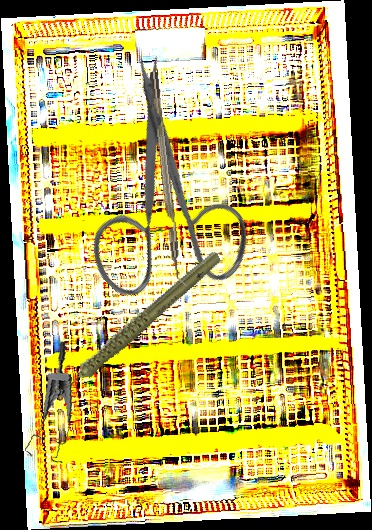Chopper: (149, 70, 192, 288)
Handpiece: (29, 249, 242, 397)
Iris Scissors: (7, 45, 305, 342)
Speculum: (9, 340, 85, 469)
